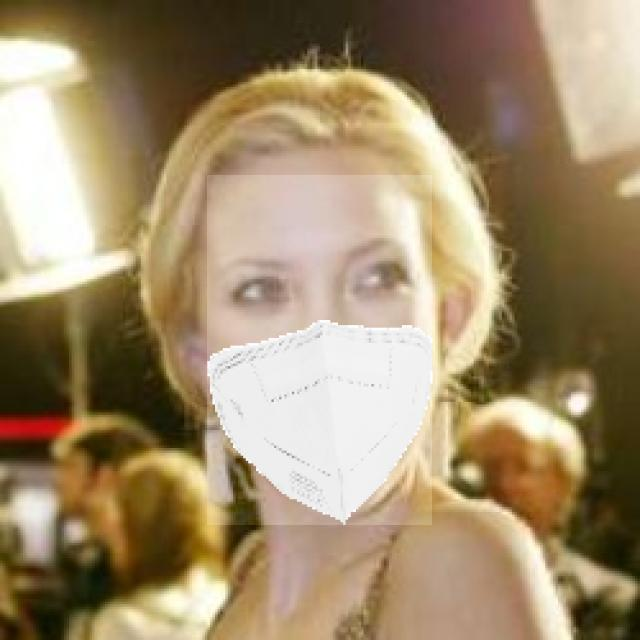kn95: (207, 175, 432, 525)
